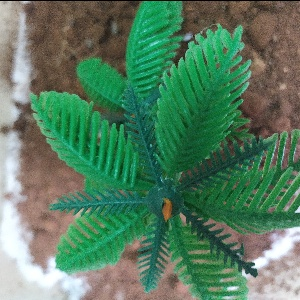plant: (27, 1, 300, 293)
